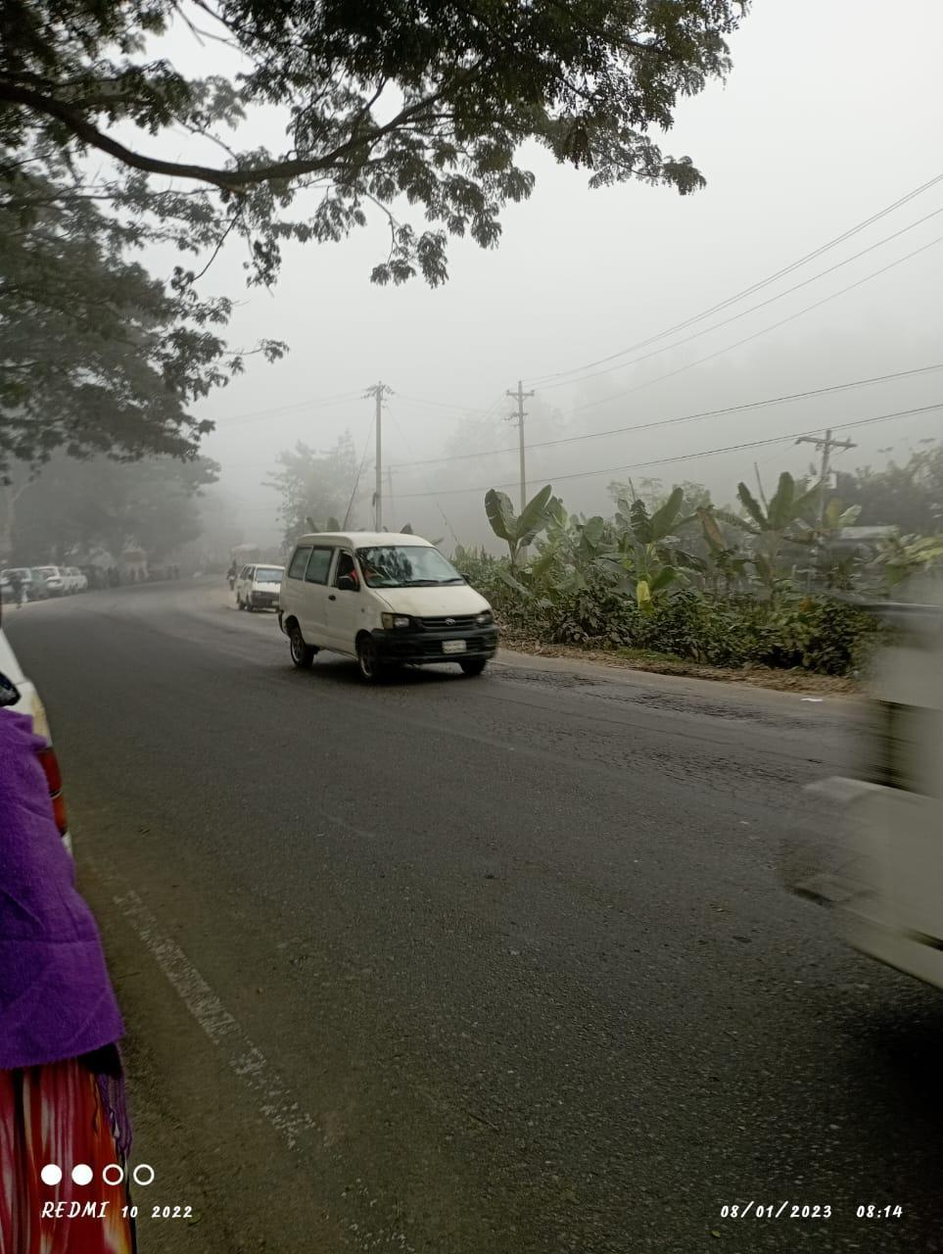Car: (271, 528, 505, 682), (229, 559, 287, 614)
